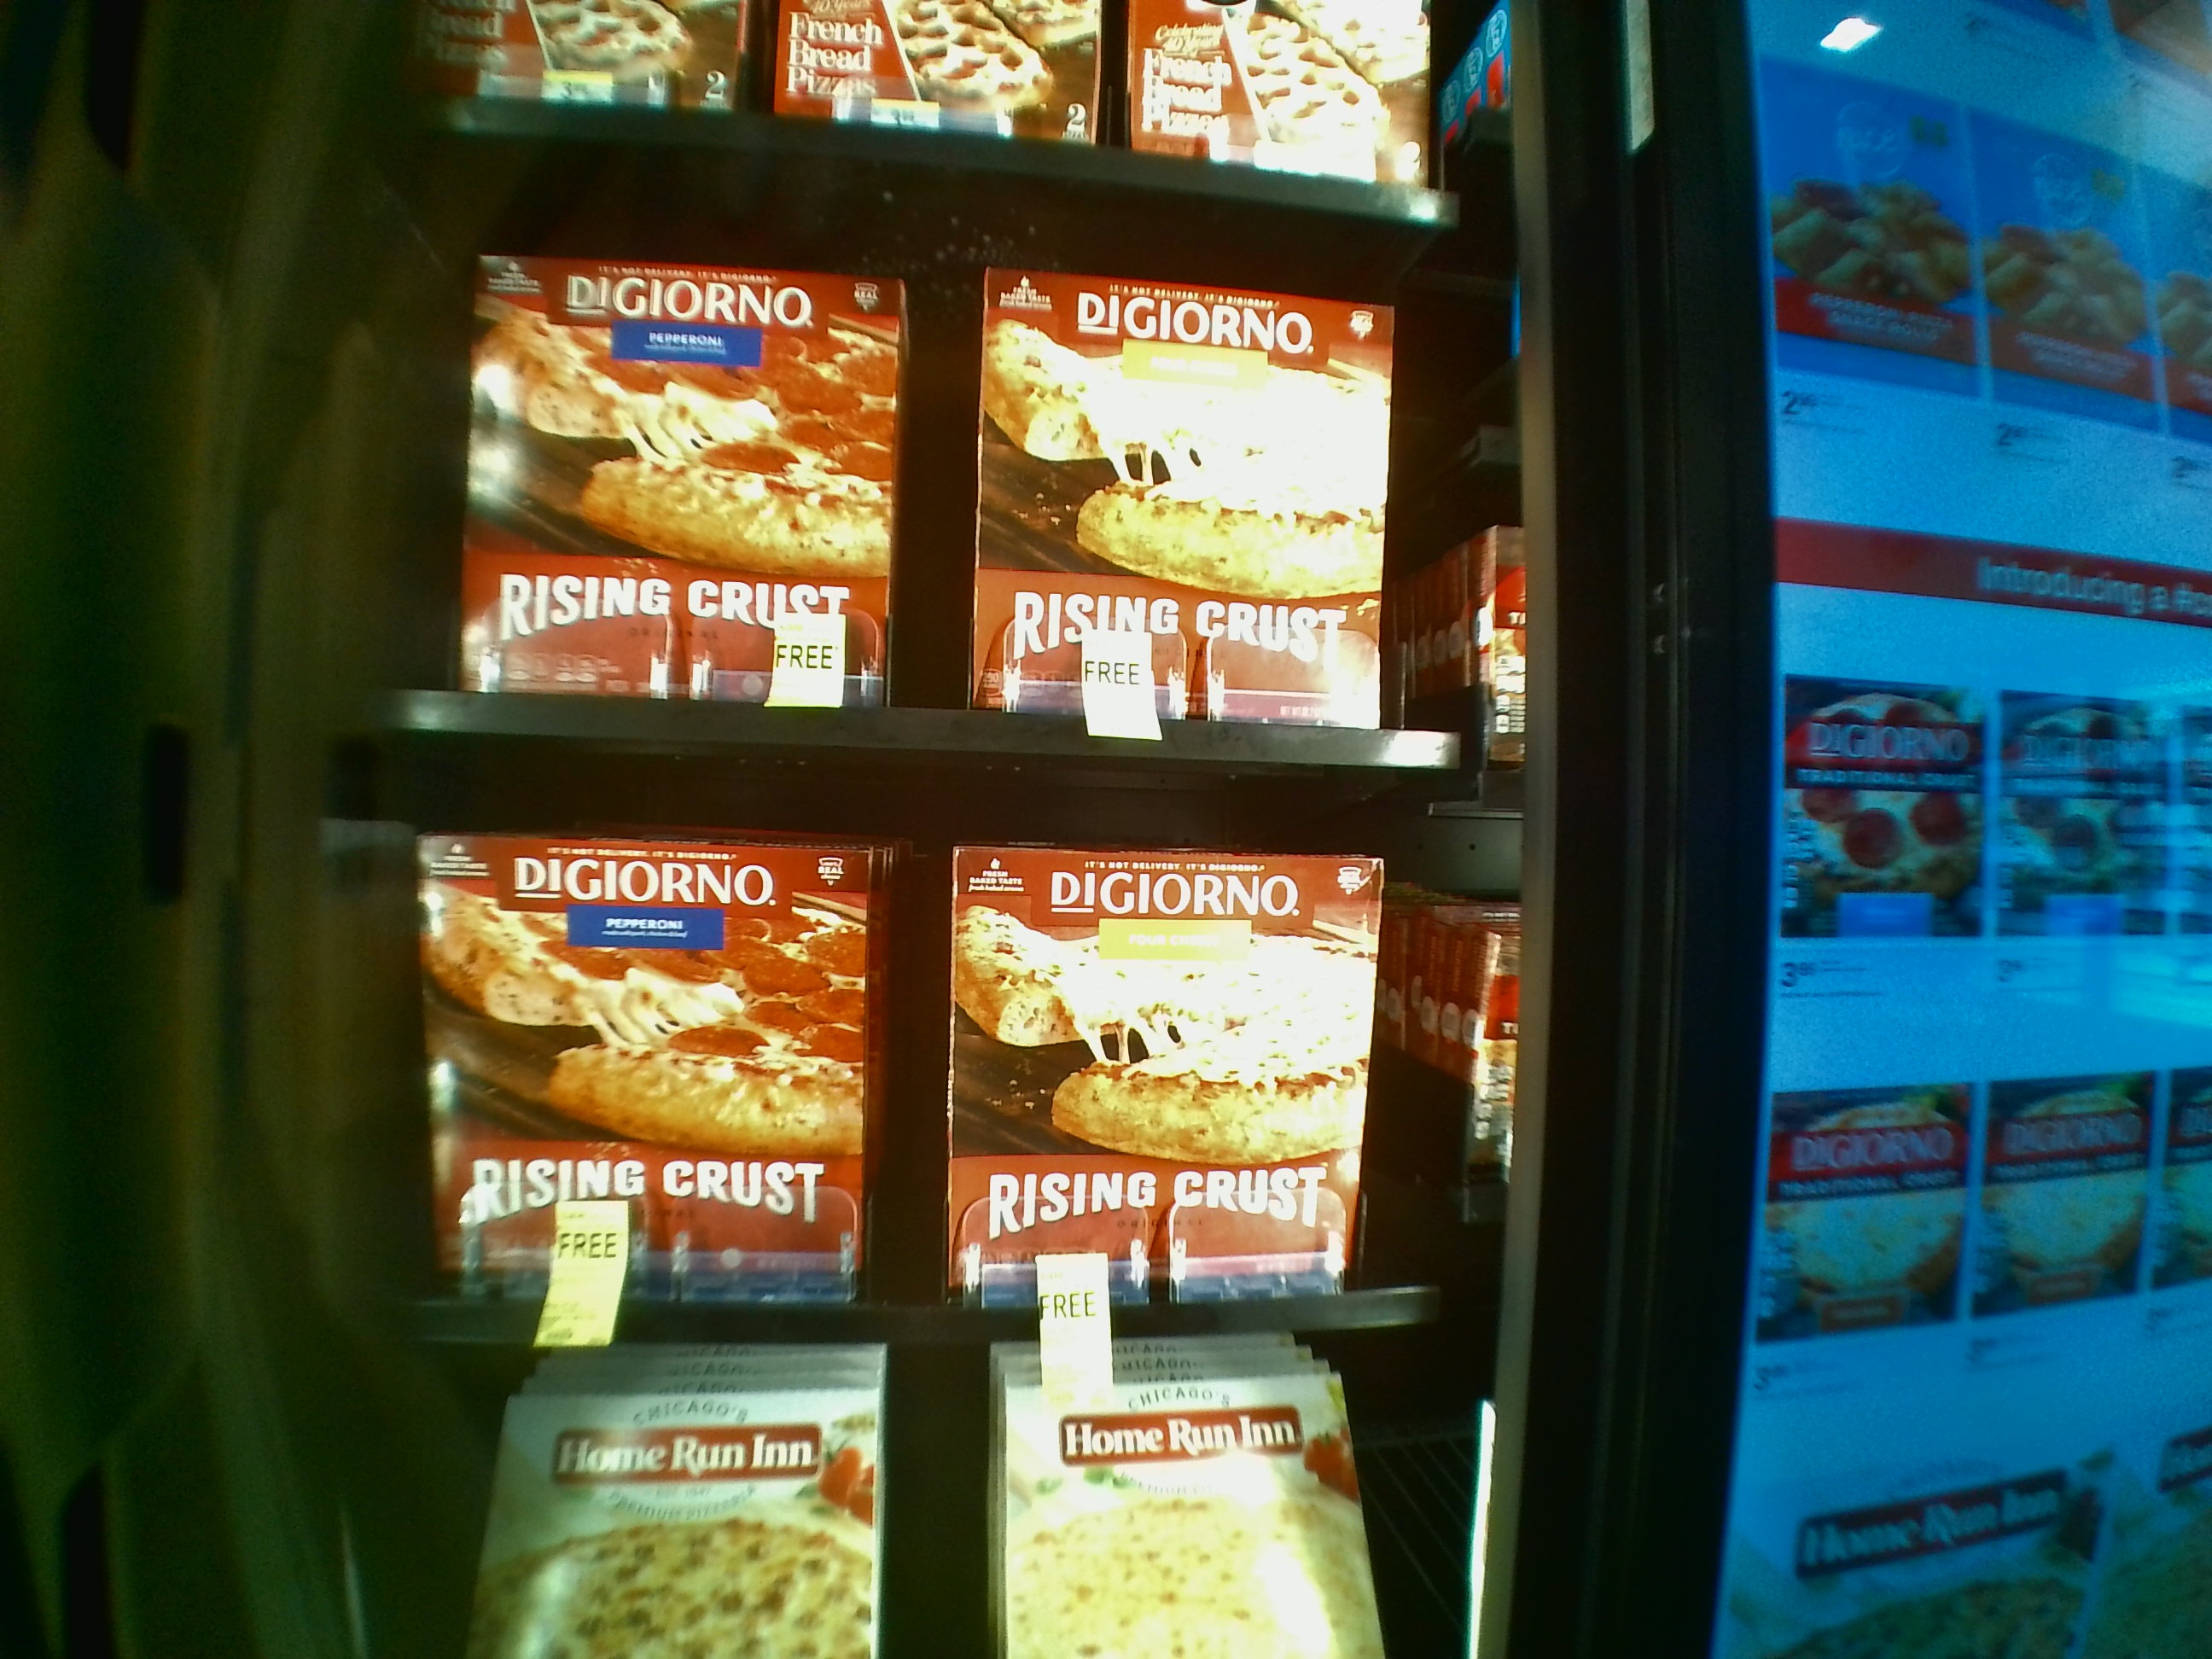shelf: (390, 176, 1526, 789), (371, 762, 1484, 1356)
